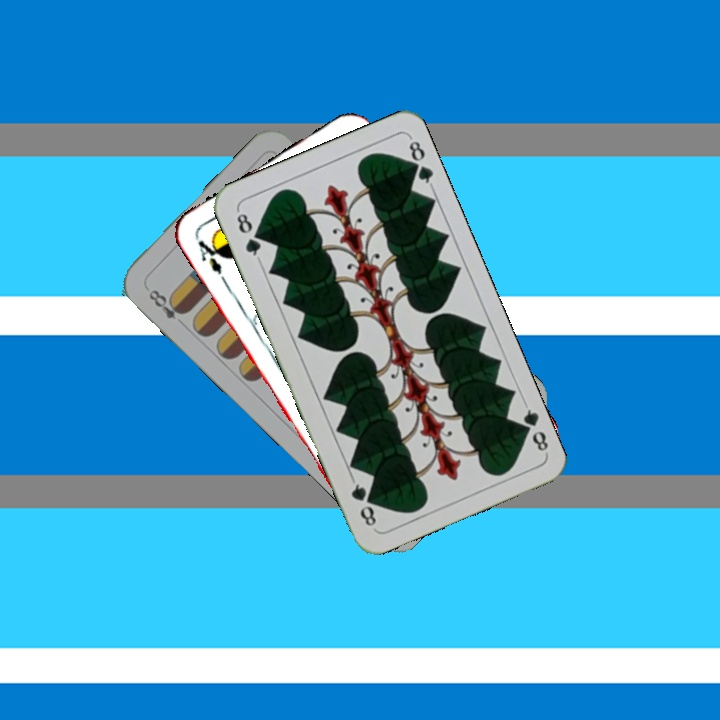E8: (144, 285, 189, 329)
EA: (193, 233, 226, 277)
G8: (513, 399, 553, 457), (232, 206, 264, 263)
